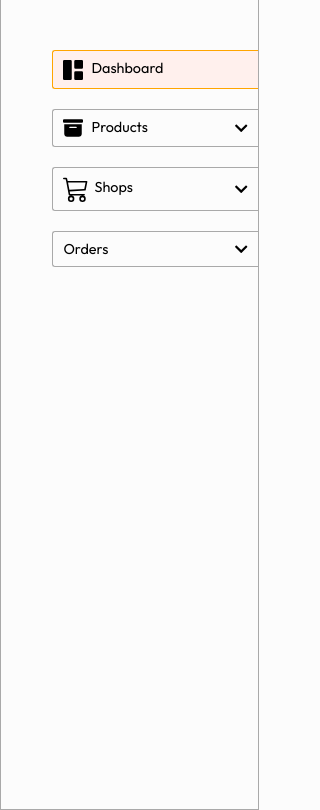
Scenario: Sidebar Component › toggles products dropdown for staff
Click the text "Products" at coordinates (106, 128), box x1=63 y1=118 x2=148 y2=138
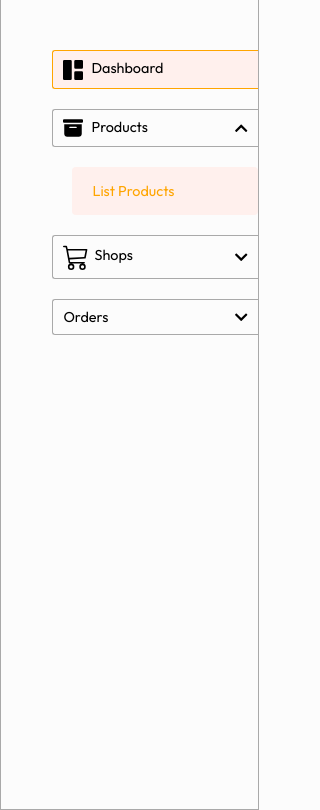
Now the text "List Products" is shown, box x1=92 y1=182 x2=174 y2=200
